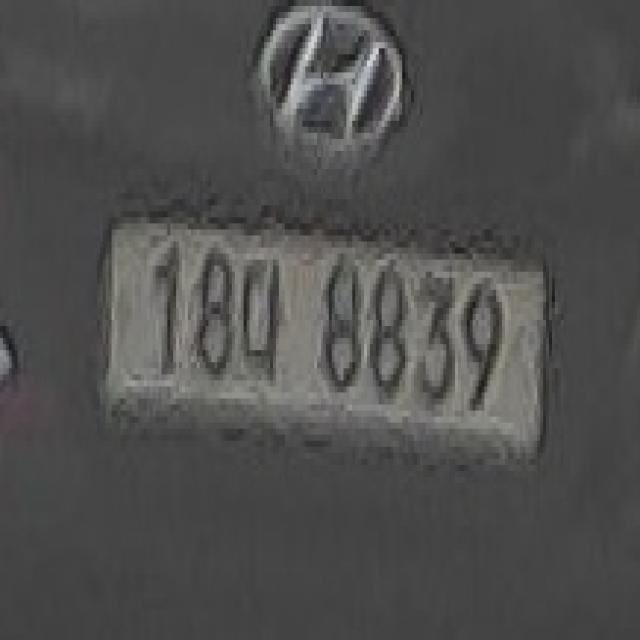plat: (96, 206, 558, 471)
